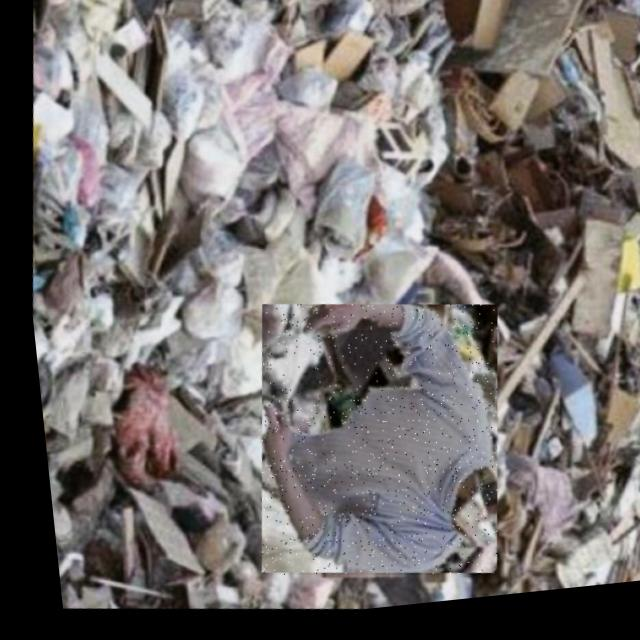Person in Rubble: (225, 290, 510, 605)
